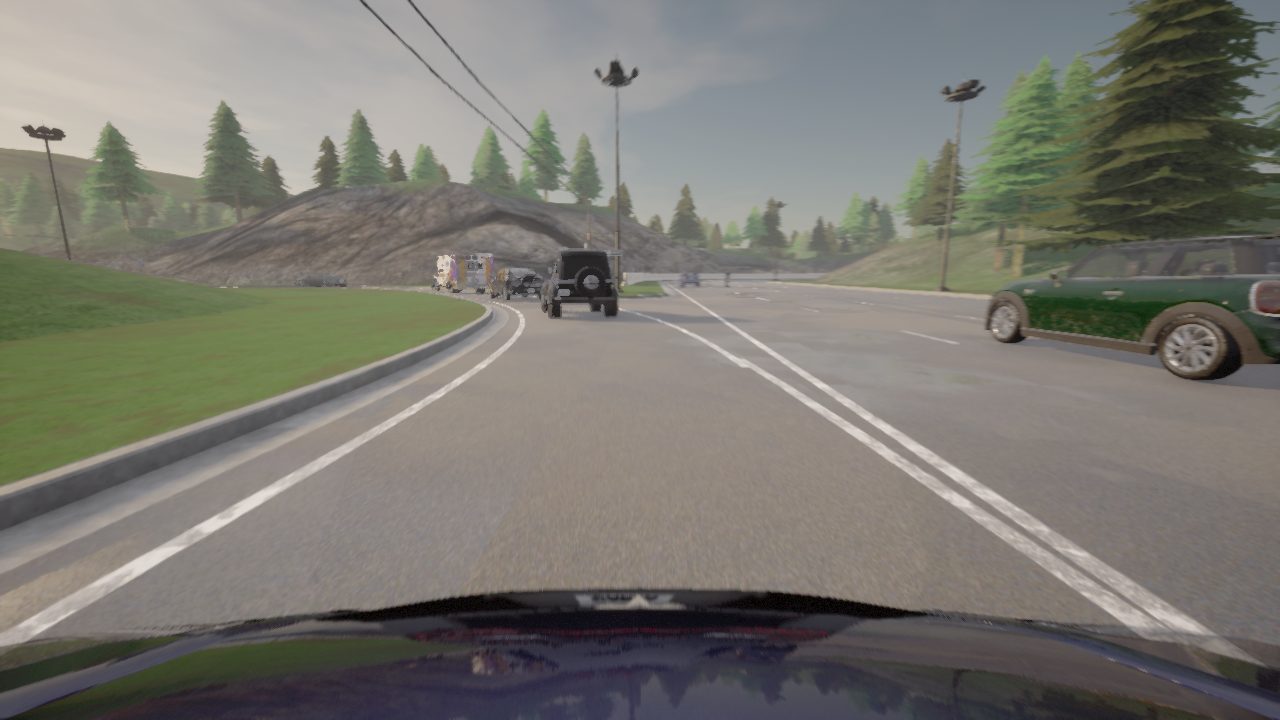cyclist: (0, 588, 1279, 719), (983, 231, 1279, 379), (541, 249, 617, 317), (430, 253, 492, 293), (489, 267, 544, 300), (293, 272, 347, 287), (680, 270, 699, 286), (726, 278, 728, 285)
